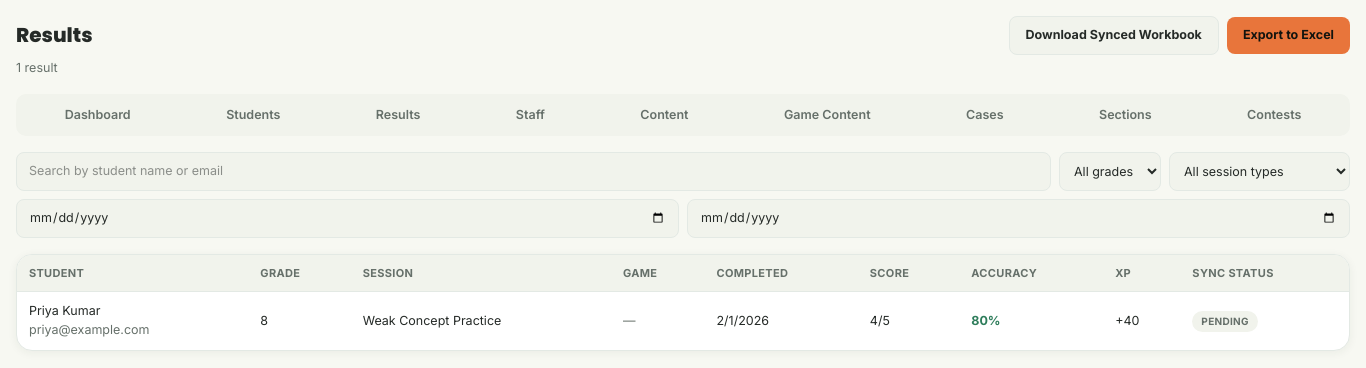
it: AdminResults › shows an error and re-enables the button when the synced-workbook download fails
The width and height of the screenshot is (1366, 368).
Check: the text "Priya Kumar" is shown, box x1=29 y1=303 x2=100 y2=318
Click the button "Download Synced Workbook".
click(1114, 35)  # box x1=1008 y1=16 x2=1219 y2=55
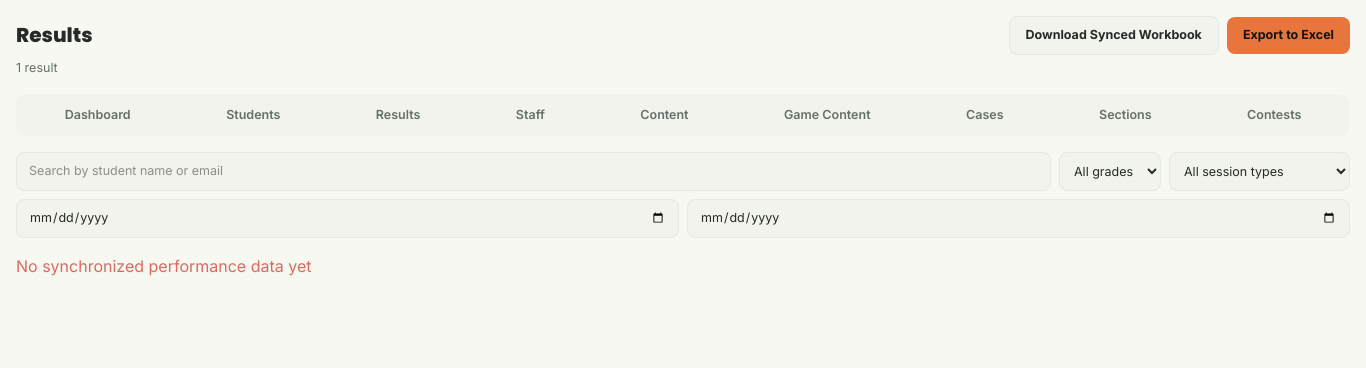
Check: the text "No synchronized performance data yet" is shown, box x1=16 y1=256 x2=312 y2=276
